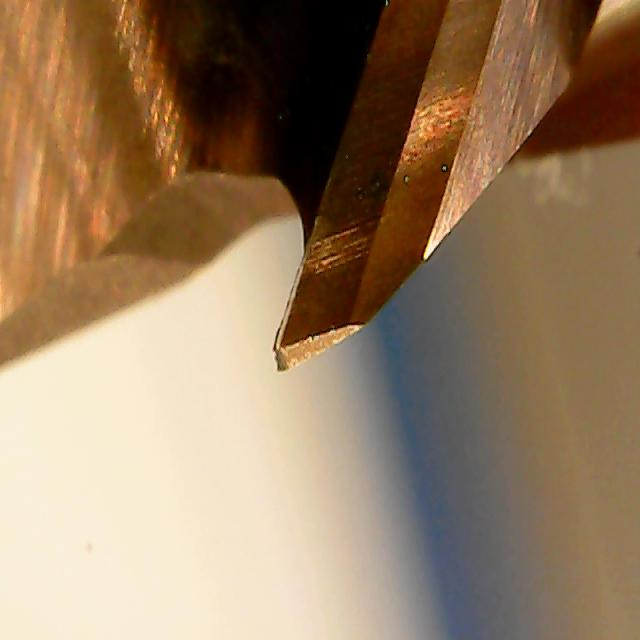Tool-wear-class-1: (258, 168, 418, 379)
